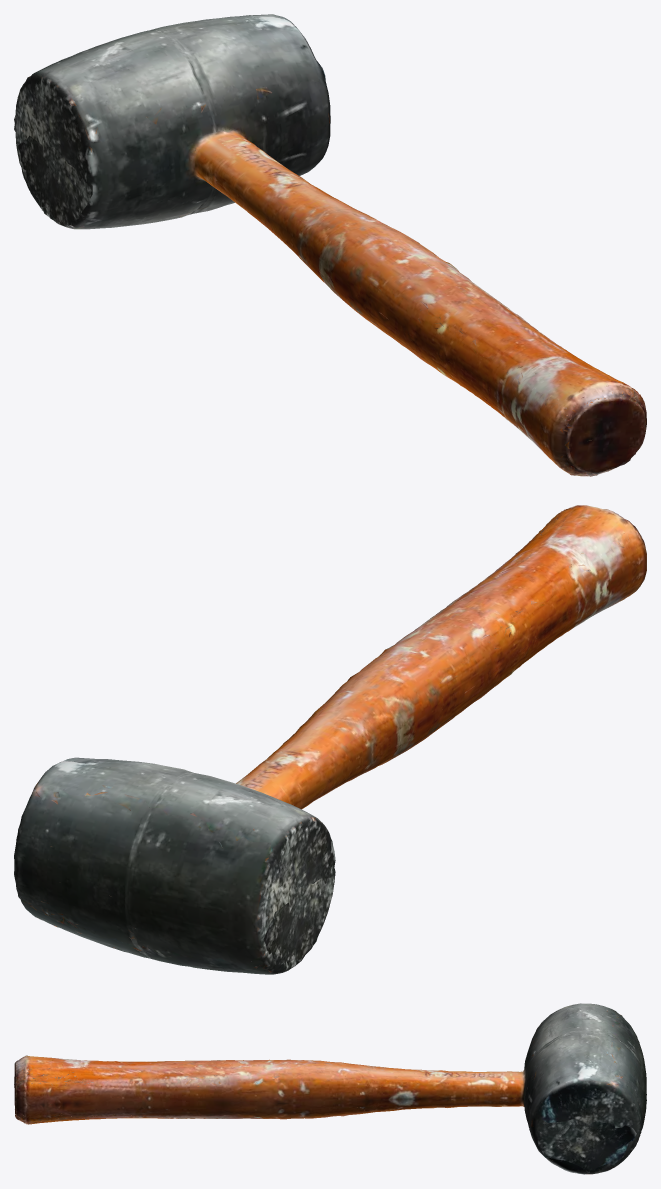
The model's file is rubber-mallet.glb.
The picture shows the model from 3 angles, top to bottom: view 1: azimuth 30°, elevation 25°; view 2: azimuth 150°, elevation 25°; view 3: azimuth 270°, elevation 25°; orthographic projection. The views are drawn at different scales.
Visible parts, largest first — view 1: Object_0; view 2: Object_0; view 3: Object_0.
Boxes of the visible parts, x1,y1,x2,y2 form: Object_0: (14, 14, 646, 476); Object_0: (14, 505, 646, 974); Object_0: (14, 1003, 646, 1174).
Size of the model in its own units: 0.0979 by 0.0657 by 0.33.
1 material, 1 textured.
